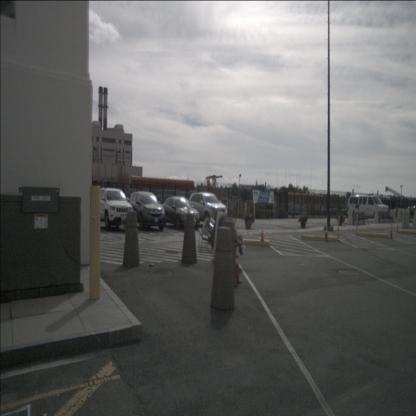movable_object-trafficcone: (233, 239, 243, 284), (324, 223, 330, 242), (389, 222, 394, 239), (261, 231, 264, 242)
vehicle-car: (93, 187, 133, 231), (128, 191, 166, 231), (160, 196, 200, 230), (188, 192, 228, 226), (348, 195, 389, 223)
